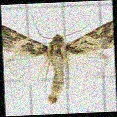Spodoptera litura: (3, 9, 114, 104)
